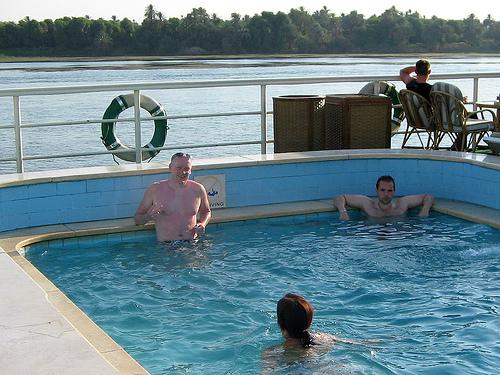human: (255, 291, 370, 372), (135, 154, 214, 250), (334, 174, 439, 220)
